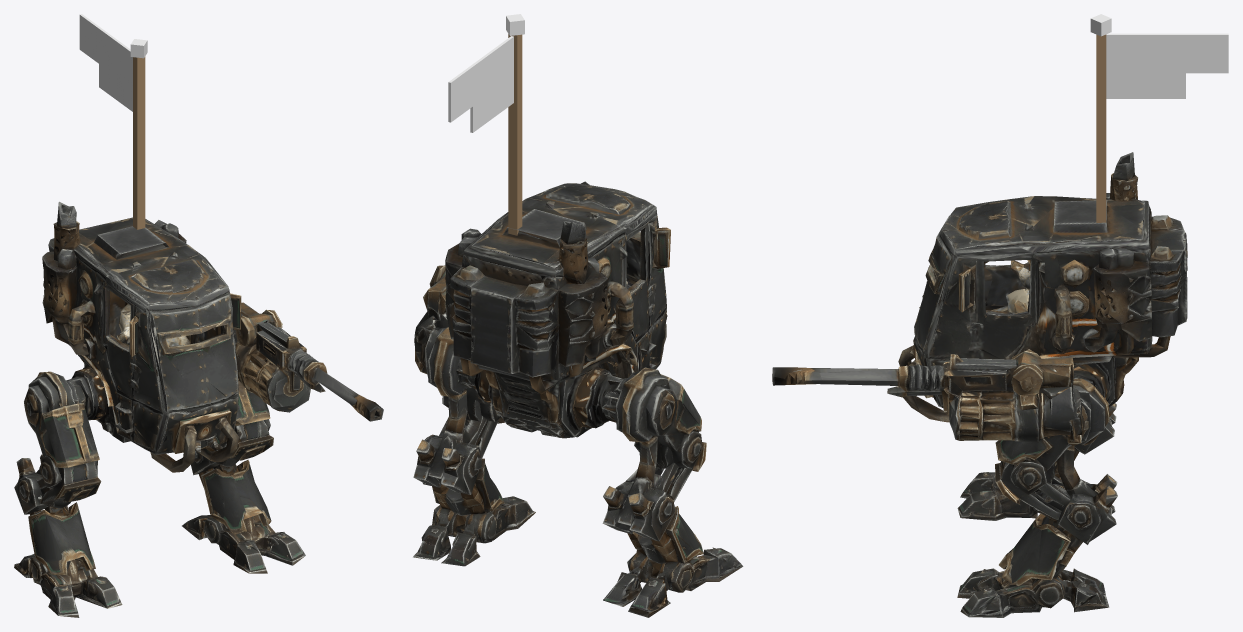
Rendered from mech_walker.glb.
The picture shows the model from 3 angles, left to right: view 1: azimuth 30°, elevation 25°; view 2: azimuth 150°, elevation 25°; view 3: azimuth 270°, elevation 25°; orthographic projection. The views are drawn at different scales.
Visible parts, largest first — view 1: mech_walker, Team_pennant; view 2: mech_walker, Team_pennant; view 3: mech_walker, Team_pennant.
Part boxes in pixels (x1,y1,x2,y2): mech_walker: (14,201,383,617); Team_pennant: (79,14,147,229); mech_walker: (413,181,743,617); Team_pennant: (448,14,524,235); mech_walker: (772,152,1187,617); Team_pennant: (1090,14,1228,222).
Size of the model in its own units: 1.45 by 2.75 by 2.08.
3 materials, 1 textured.
